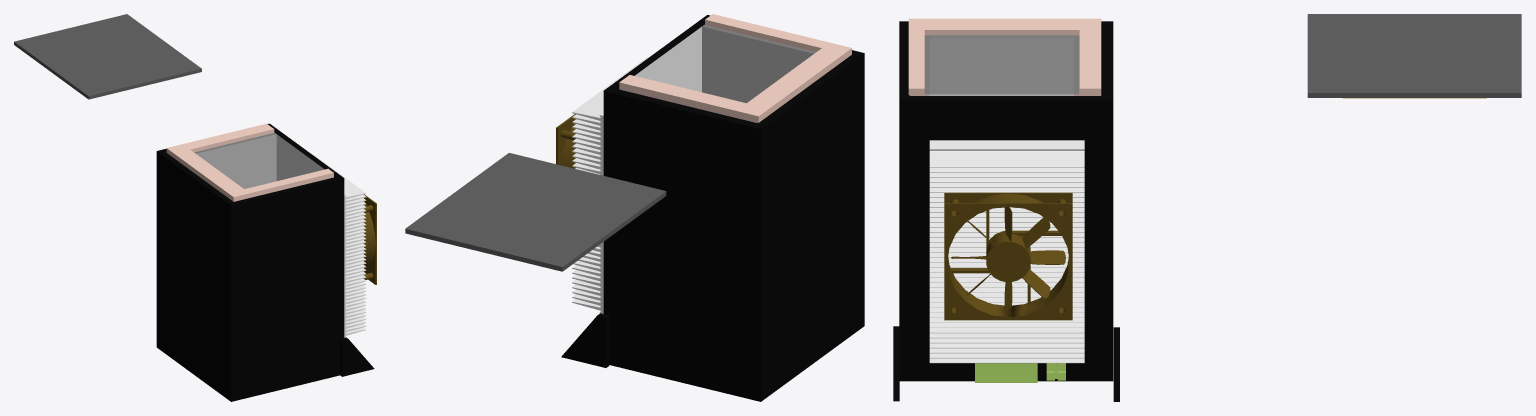
The model's file is CaixaFinalizada_ExplodedView.glb.
3 renders of one model, left to right at view 1: azimuth 30°, elevation 25°; view 2: azimuth 150°, elevation 25°; view 3: azimuth 270°, elevation 25°, orthographic. The views are drawn at different scales.
Parts seen in each view (by area): view 1: CorpoCaixa, Tampa_solo, ParedeInterna, Revestimento, CoolerQuente, Ventilador.001, SuporteLateral; view 2: CorpoCaixa, Tampa_solo, ParedeInterna, Revestimento, CoolerQuente, SuporteLateral.001, Ventilador.001; view 3: CorpoCaixa, CoolerQuente, Tampa_solo, Ventilador.001, ParedeInterna, Revestimento, Eletronica.
Boxes of the visible parts, x1,y1,x2,y2 form: CorpoCaixa: (156, 123, 344, 401); Tampa_solo: (14, 14, 201, 99); ParedeInterna: (194, 132, 324, 188); Revestimento: (166, 123, 333, 201); CoolerQuente: (311, 153, 366, 337); Ventilador.001: (363, 194, 376, 284); SuporteLateral: (340, 337, 374, 376); CorpoCaixa: (603, 15, 864, 401); Tampa_solo: (405, 153, 666, 271); ParedeInterna: (635, 24, 815, 103); Revestimento: (619, 14, 851, 122); CoolerQuente: (572, 57, 648, 313); SuporteLateral.001: (561, 313, 609, 367); Ventilador.001: (556, 114, 575, 168); CorpoCaixa: (899, 21, 1113, 381); CoolerQuente: (929, 140, 1084, 363); Tampa_solo: (1307, 14, 1521, 98); Ventilador.001: (944, 192, 1072, 320); ParedeInterna: (924, 35, 1079, 95); Revestimento: (908, 18, 1101, 95); Eletronica: (975, 363, 1065, 382).
Size of what is drawn, in the model's own units: 1.25 by 1.49 by 2.94.
